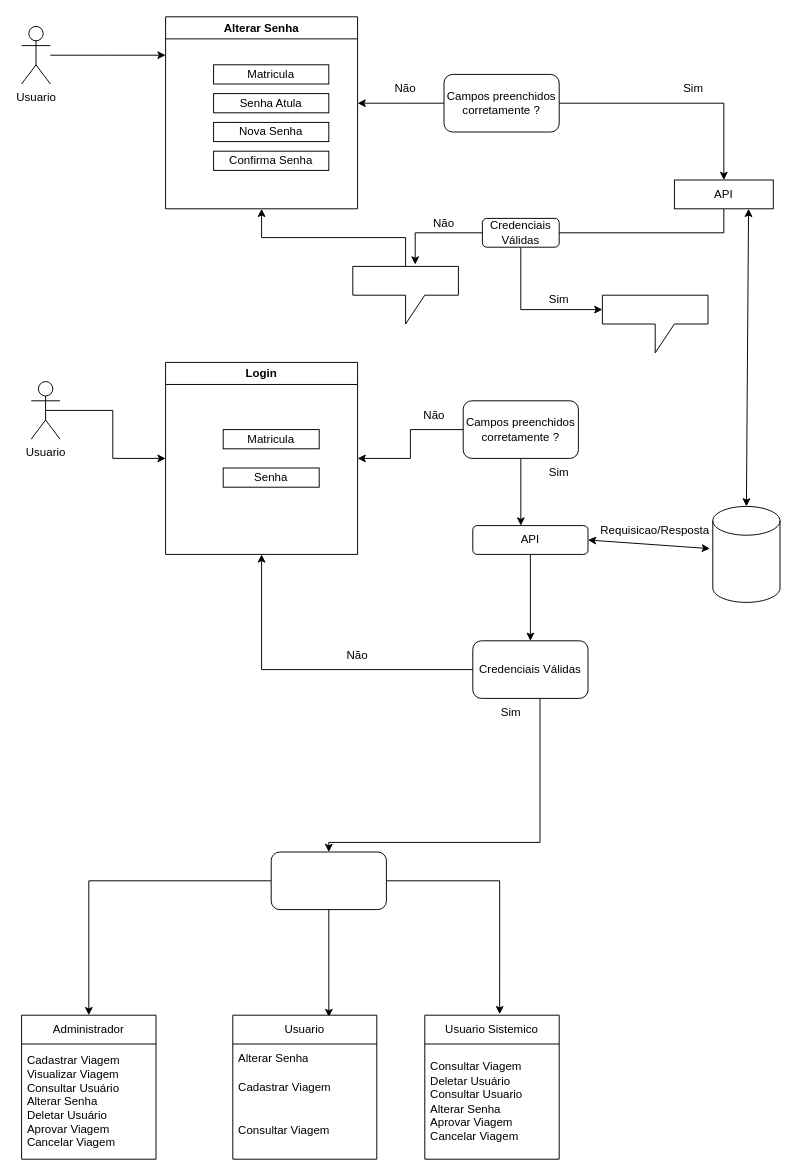
The diagram is 797 pixels wide and 1176 high, and some of its shapes have lost their labels. The centre of each missing label's shape, as x and y in pixels:
"Erro ao tentar alterar" goes at (x=405, y=294).
"Senha Alterada com sucesso" goes at (x=654, y=323).
"SQL/Server" goes at (x=746, y=553).
"Tipo de Acesso" goes at (x=328, y=880).
